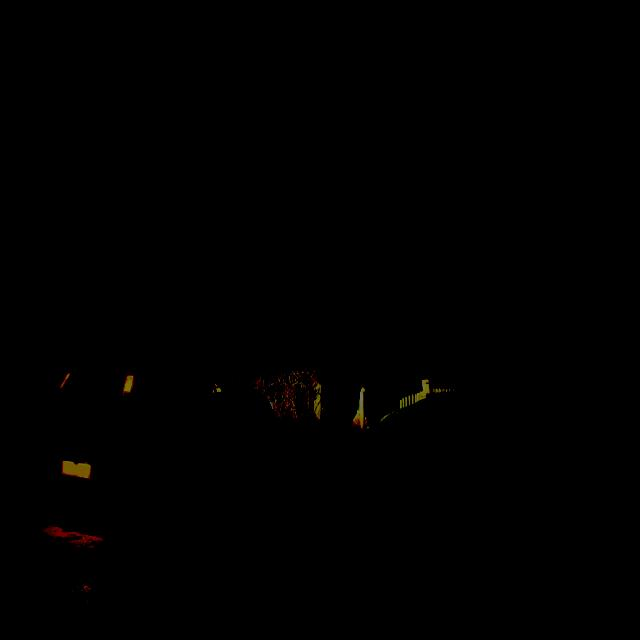Car: (50, 351, 272, 502)
